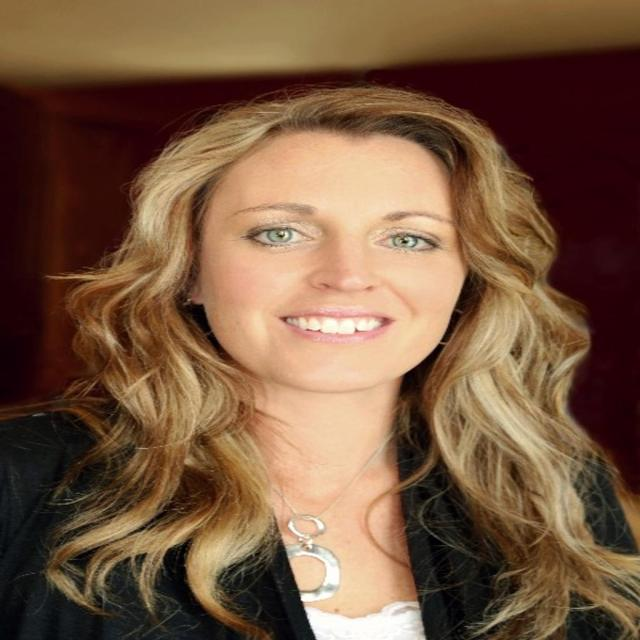Face: (151, 121, 469, 401)
